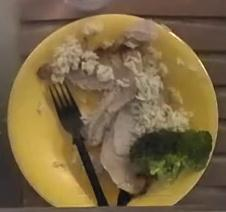broccoli: (130, 129, 211, 180)
pork: (64, 59, 148, 204)
rice: (123, 60, 190, 138)
